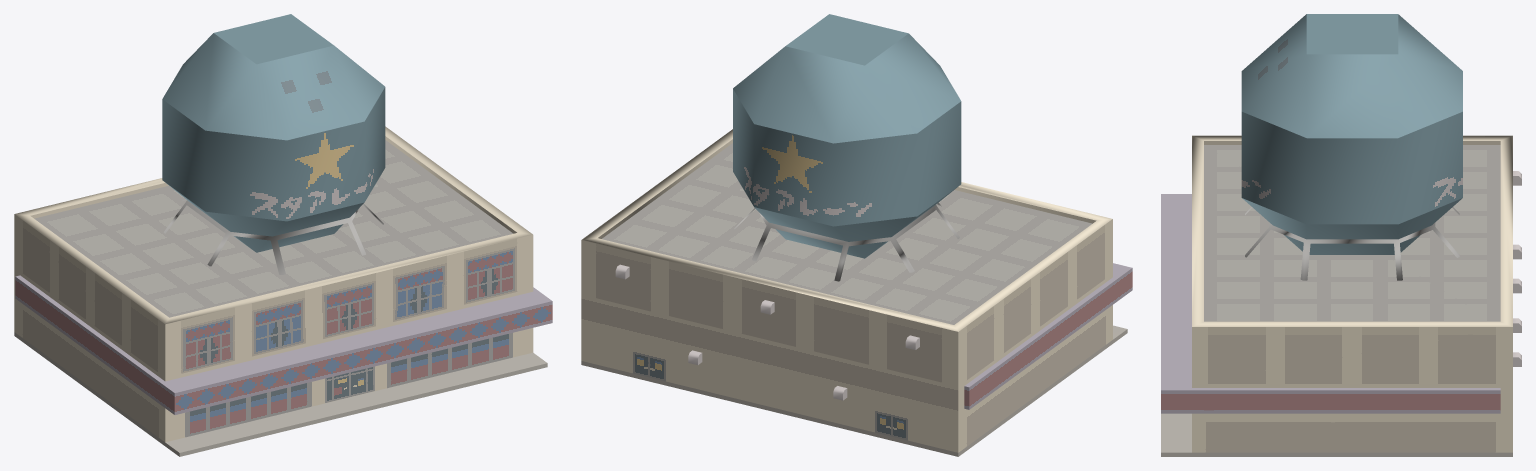
File: 02c8_Bowling_Alley.glb
The picture shows the model from 3 angles, left to right: view 1: azimuth 30°, elevation 25°; view 2: azimuth 150°, elevation 25°; view 3: azimuth 270°, elevation 25°; orthographic projection. The views are drawn at different scales.
Visible parts, largest first — view 1: part_0; view 2: part_0; view 3: part_0.
Boxes of the visible parts, x1,y1,x2,y2 form: part_0: (14, 14, 552, 456); part_0: (581, 14, 1132, 456); part_0: (1161, 14, 1521, 456).
Bounding box in the file's own units: 56.87 × 44.19 × 44.17.
1 material, 1 textured.
